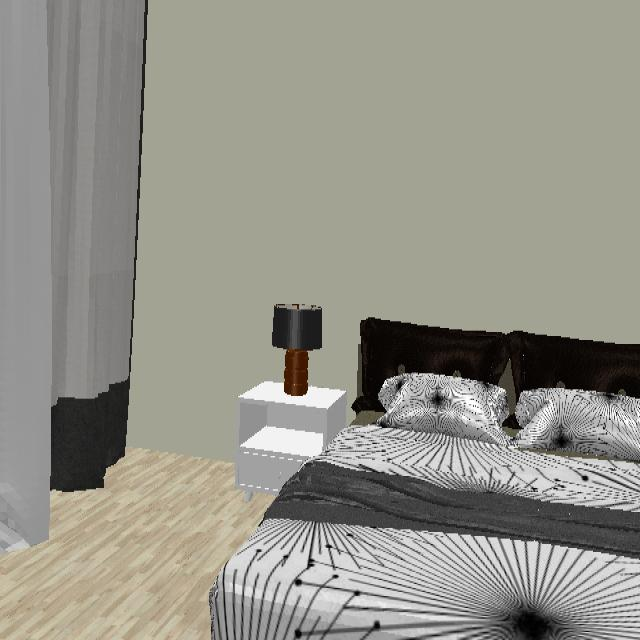bed: (208, 319, 640, 640)
lamp: (272, 303, 325, 400)
nighttable: (234, 381, 351, 495)
